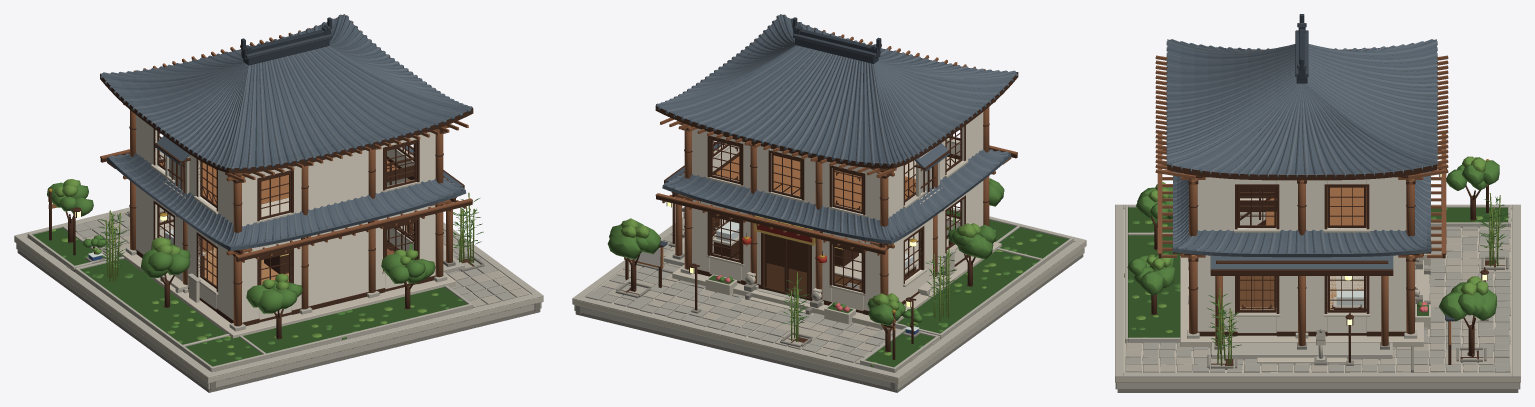
The model's file is wenmai_gallery.glb.
3 renders of one model, left to right at view 1: azimuth 30°, elevation 25°; view 2: azimuth 150°, elevation 25°; view 3: azimuth 270°, elevation 25°, orthographic. The views are drawn at different scales.
Visible parts, largest first — view 1: MERGE_BASE, MERGE_BUILDING, TILE_Main, ROOF_Main, MERGE_INTERIOR, MERGE_ROOF, TILE_Lower, ROOF_Lower, ROOF_Ridge_Group; view 2: MERGE_BASE, MERGE_BUILDING, TILE_Main, ROOF_Main, MERGE_INTERIOR, MERGE_ROOF, TILE_Lower, ROOF_Lower, ROOF_Ridge_Group; view 3: MERGE_BASE, MERGE_BUILDING, TILE_Main, ROOF_Main, MERGE_INTERIOR, MERGE_ROOF, TILE_Lower, ROOF_Lower, ROOF_Ridge_Group.
Part boxes in pixels (x1,y1,x2,y2): MERGE_BASE: (14,179,543,392); MERGE_BUILDING: (117,104,464,338); TILE_Main: (100,14,472,170); ROOF_Main: (100,14,473,182); MERGE_INTERIOR: (151,128,420,295); MERGE_ROOF: (107,154,466,250); TILE_Lower: (109,152,463,246); ROOF_Lower: (100,149,472,262); ROOF_Ridge_Group: (241,29,331,65); MERGE_BASE: (572,178,1086,392); MERGE_BUILDING: (663,101,1001,330); TILE_Main: (656,14,1017,166); ROOF_Main: (655,14,1018,177); MERGE_INTERIOR: (706,125,968,303); MERGE_ROOF: (662,150,1011,244); TILE_Lower: (664,148,1009,239); ROOF_Lower: (655,145,1017,255); ROOF_Ridge_Group: (793,29,880,63); MERGE_BASE: (1115,156,1520,392); MERGE_BUILDING: (1180,173,1423,364); TILE_Main: (1166,39,1437,177); ROOF_Main: (1155,39,1448,180); MERGE_INTERIOR: (1233,184,1417,316); MERGE_ROOF: (1172,172,1431,257); TILE_Lower: (1173,171,1430,253); ROOF_Lower: (1157,133,1446,258); ROOF_Ridge_Group: (1295,29,1308,83).
Bounding box in the file's own units: 14 × 10.34 × 14.
